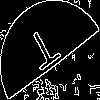T: (24, 25, 66, 79)
